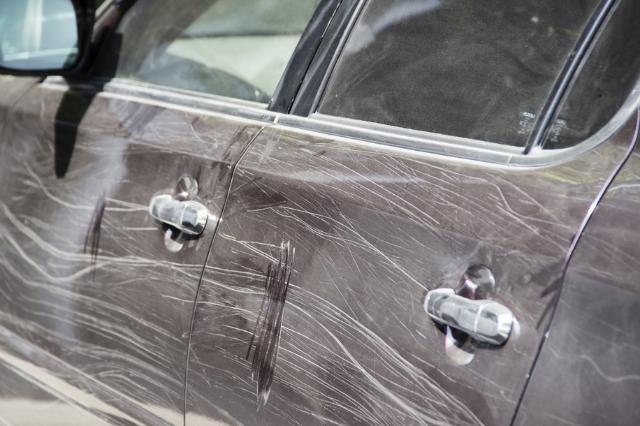Door: (210, 129, 500, 426), (6, 95, 190, 426)
